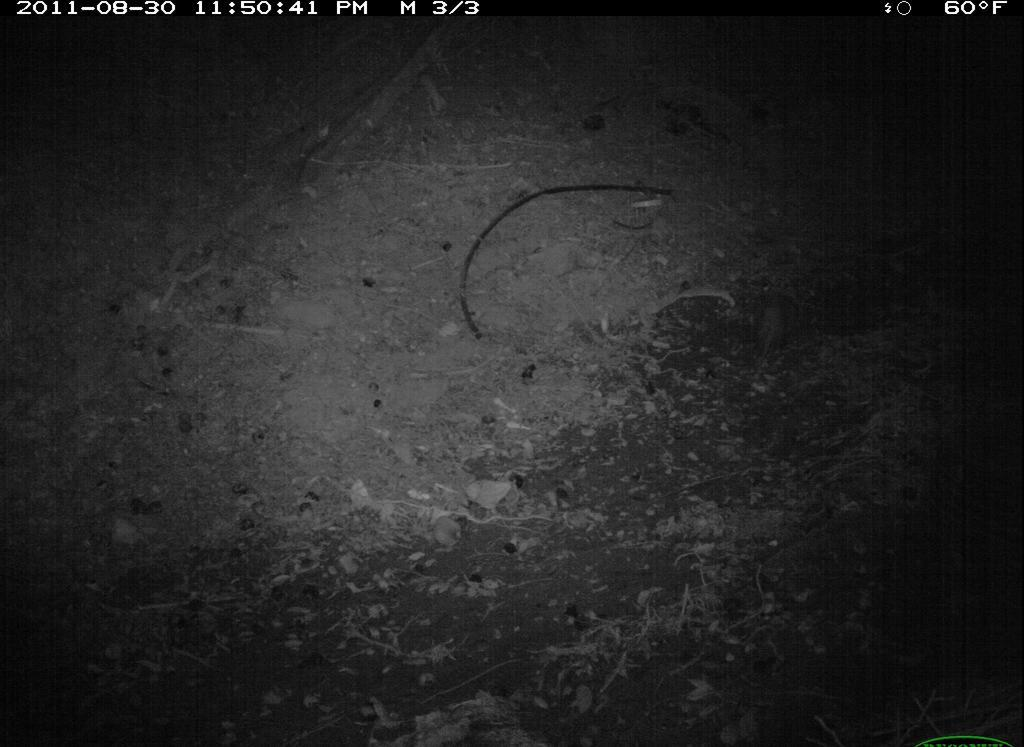opossum: (739, 274, 806, 401)
